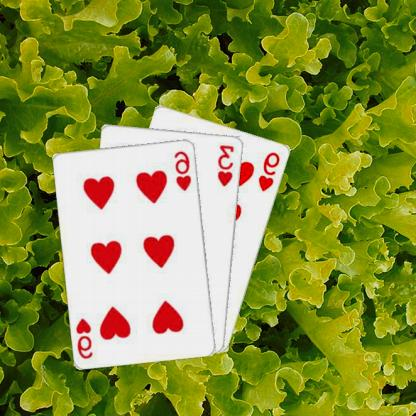3H: (217, 142, 237, 187)
6H: (173, 148, 195, 192), (75, 315, 96, 360)
9H: (258, 149, 284, 192)
